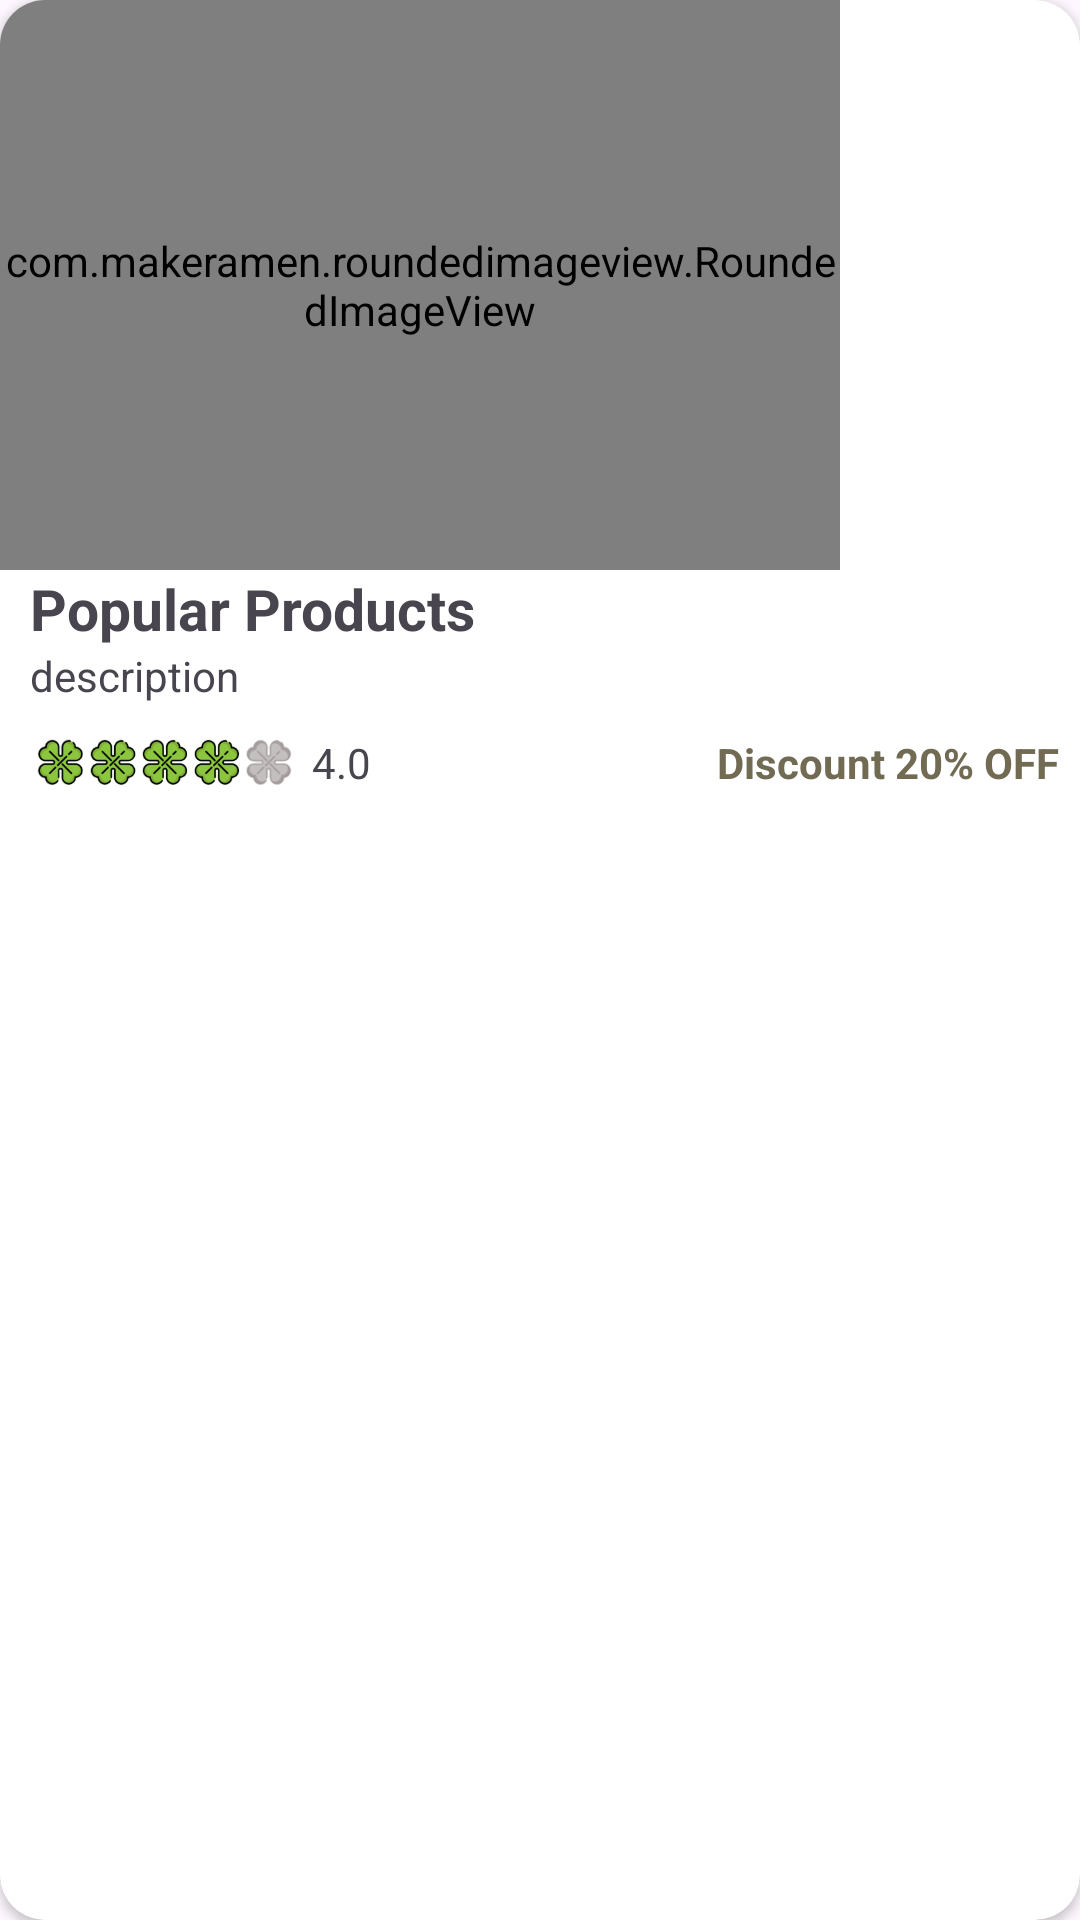

Where icons sit on this 1080x1920 app screen, as (x1=x1, y1=y1, x2=x2, y2=y2):
four star rating: (x1=38, y1=739, x2=291, y2=785)
